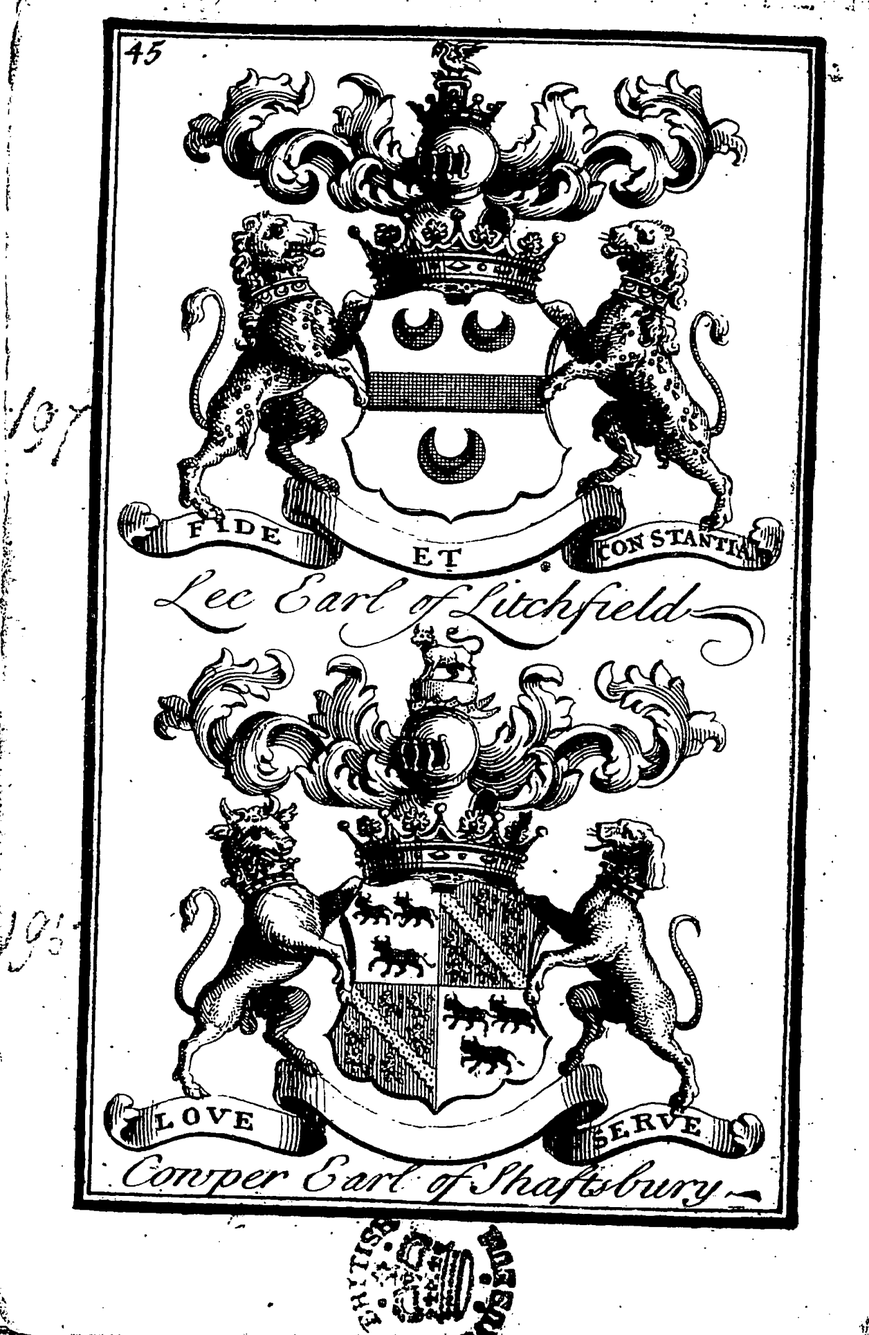coat_of_arms: (153, 43, 764, 646), (142, 633, 757, 1213)
